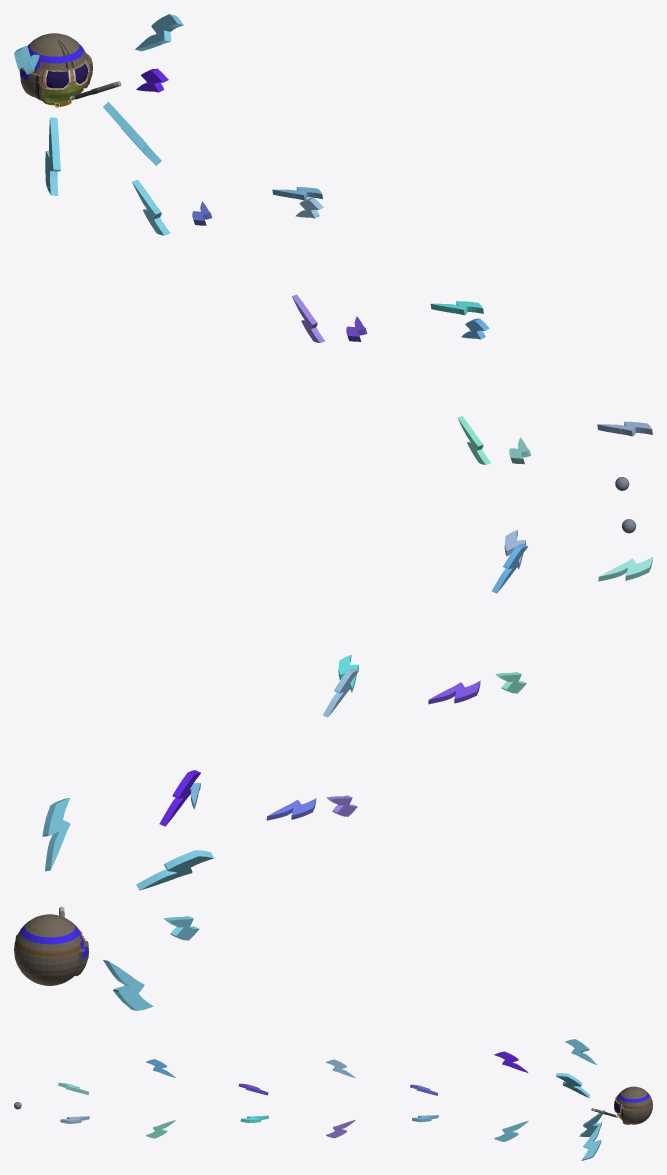
Rendered from MONSTER-07-blue.fbx.
3 views of the same model, one above another, from view 1: azimuth 30°, elevation 25°; view 2: azimuth 150°, elevation 25°; view 3: azimuth 270°, elevation 25° (orthographic). The views are drawn at different scales.
Parts seen in each view (by area): view 1: Sphere, Cube.009, Cube.001; view 2: Sphere, Cube.009, Cube.001, Cube.012; view 3: Cube.009, Sphere, Cube.001, Cube.010, Cube.006, Cube.008, Cube.007.
Part boxes in pixels (bbox=[...]): Sphere: bbox=[19, 33, 92, 107]; Cube.009: bbox=[14, 14, 183, 195]; Cube.001: bbox=[132, 68, 170, 235]; Sphere: bbox=[14, 914, 89, 985]; Cube.009: bbox=[42, 798, 213, 1010]; Cube.001: bbox=[159, 770, 200, 940]; Cube.012: bbox=[598, 557, 652, 581]; Cube.009: bbox=[556, 1039, 604, 1160]; Sphere: bbox=[614, 1086, 652, 1124]; Cube.001: bbox=[494, 1051, 528, 1141]; Cube.010: bbox=[146, 1120, 175, 1138]; Cube.006: bbox=[326, 1120, 355, 1138]; Cube.008: bbox=[146, 1059, 175, 1077]; Cube.007: bbox=[326, 1059, 355, 1078].
Bounding box in the file's own units: 566 × 535 × 3350.
